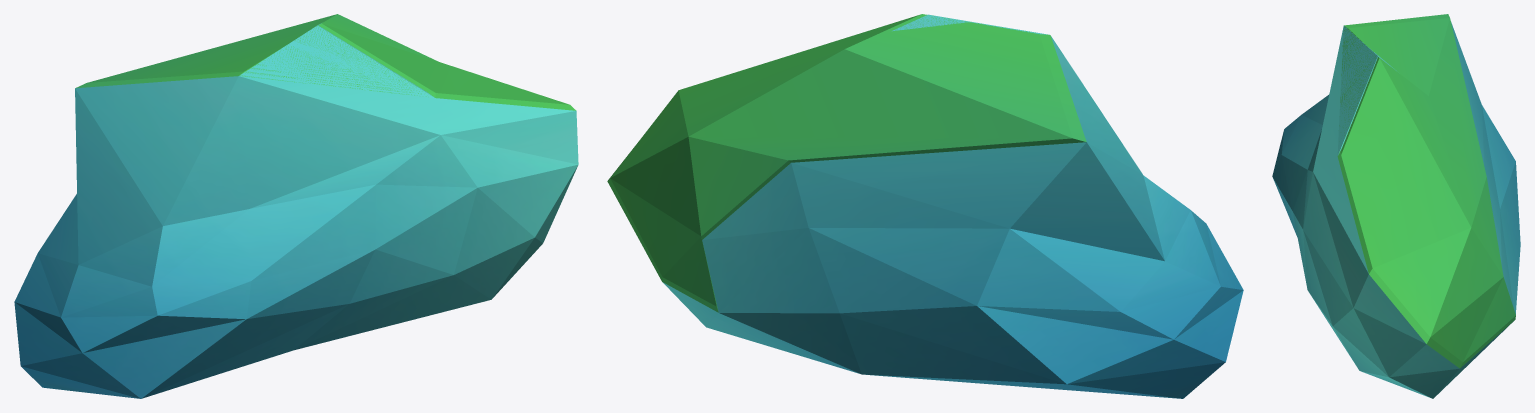
Rendered from LargeRockWithMoss.fbx.
3 renders of one model, left to right at view 1: azimuth 30°, elevation 25°; view 2: azimuth 150°, elevation 25°; view 3: azimuth 270°, elevation 25°, orthographic. The views are drawn at different scales.
Visible parts, largest first — view 1: LargeRock; view 2: LargeRock; view 3: LargeRock.
Part boxes in pixels (bbox=[...]): LargeRock: bbox=[14, 14, 578, 398]; LargeRock: bbox=[607, 14, 1243, 398]; LargeRock: bbox=[1272, 14, 1520, 398].
Size of the model in its own units: 561 by 307 by 254.
